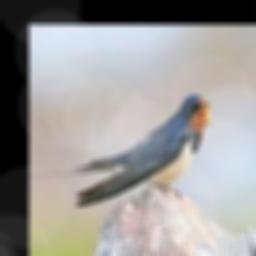Swallow: (73, 95, 211, 206)
